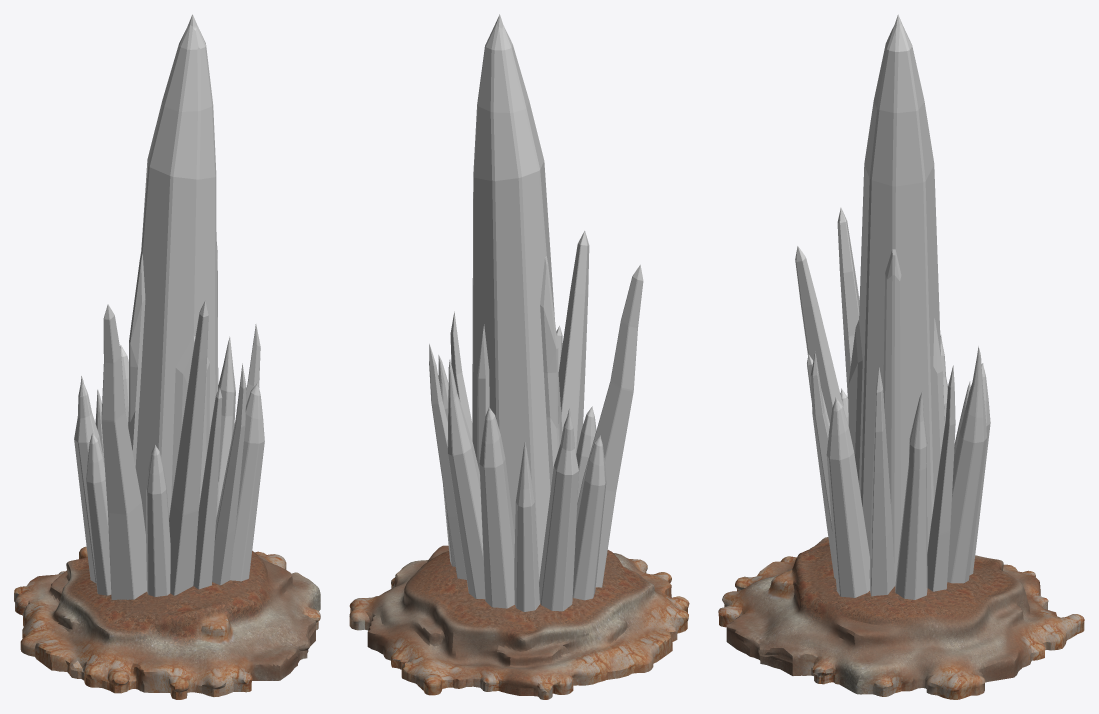
File: quartz01.fbx
The picture shows the model from 3 angles, left to right: view 1: azimuth 30°, elevation 25°; view 2: azimuth 150°, elevation 25°; view 3: azimuth 270°, elevation 25°; orthographic projection. The views are drawn at different scales.
Parts seen in each view (by area): view 1: crystal, ground; view 2: crystal, ground; view 3: crystal, ground.
Part boxes in pixels (bbox=[...]): crystal: bbox=[74, 14, 264, 599]; ground: bbox=[14, 546, 320, 699]; crystal: bbox=[429, 14, 643, 611]; ground: bbox=[349, 545, 689, 699]; crystal: bbox=[795, 14, 990, 599]; ground: bbox=[718, 537, 1084, 699].
Bounding box in the file's own units: 302 × 626 × 332.
2 materials, 1 textured.
